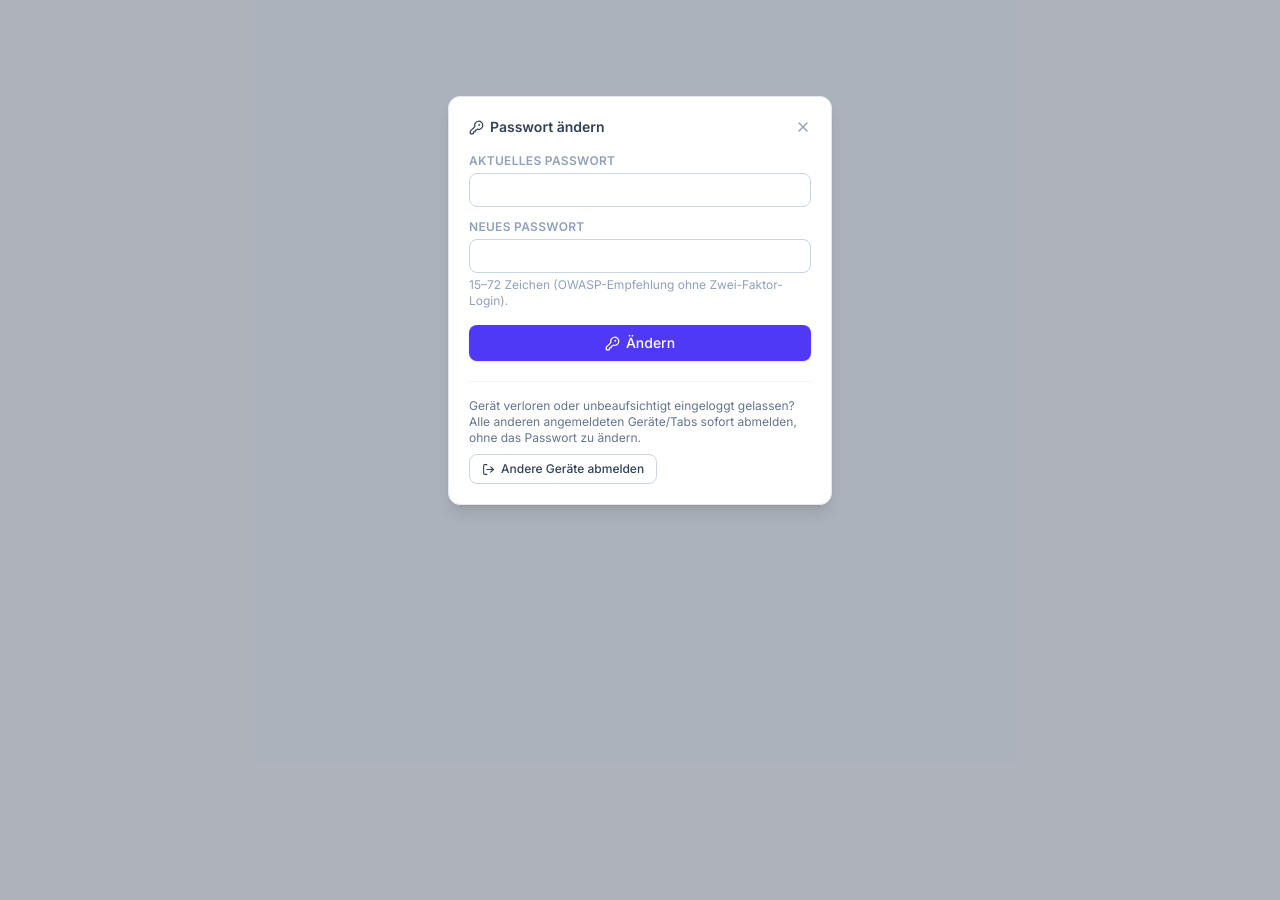
Test: PasswortAendernDialog › zeigt eine Erfolgsmeldung nach erfolgreicher Änderung
Type "altes-passwort-123" into the password field labelled "Aktuelles Passwort" at (640, 190), box [469,173,811,207]
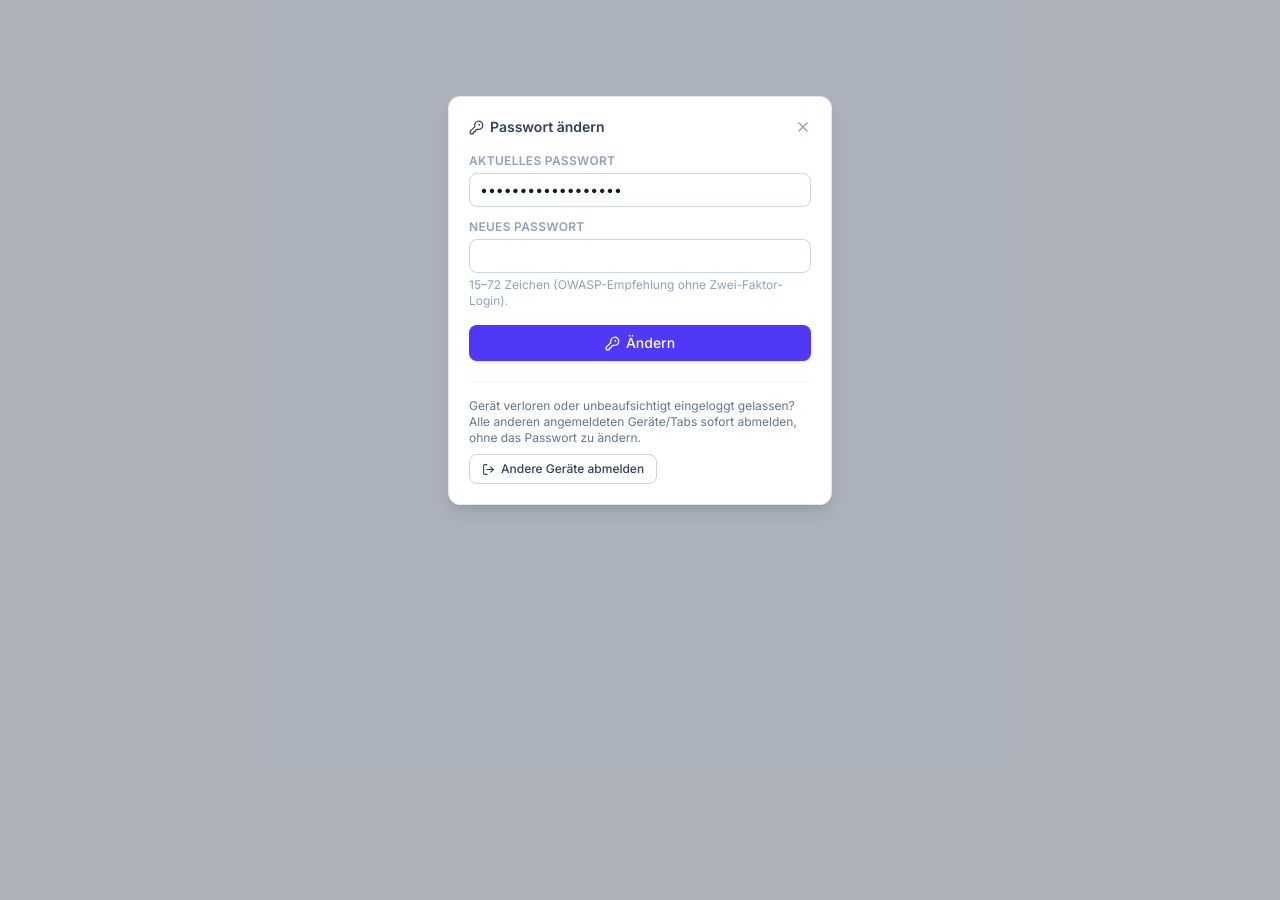
Type "ein-neues-langes-passwort" into the password field labelled "Neues Passwort" at (640, 256), box [469,239,811,273]
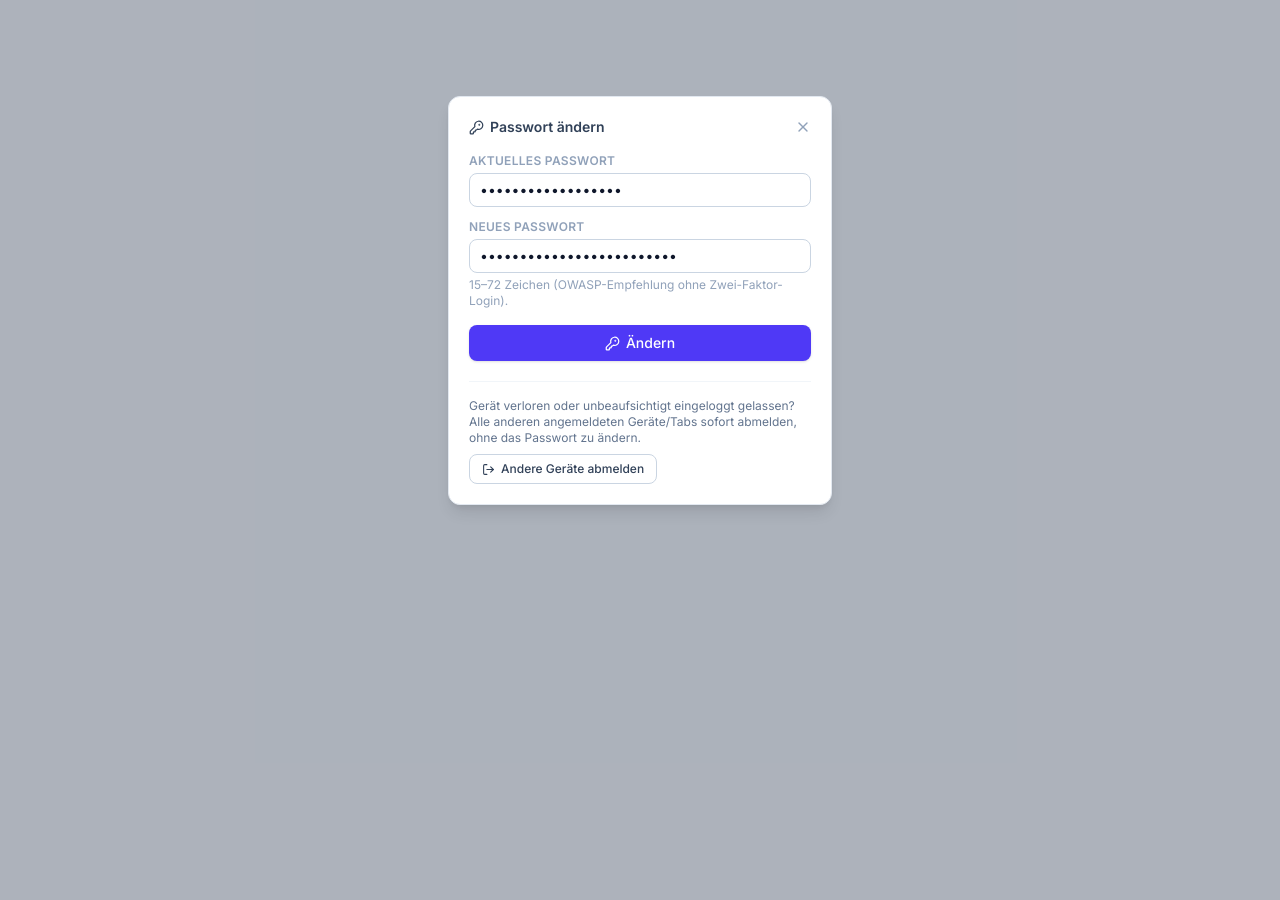
Click the button "Ändern" at (640, 343), box [469,325,811,361]
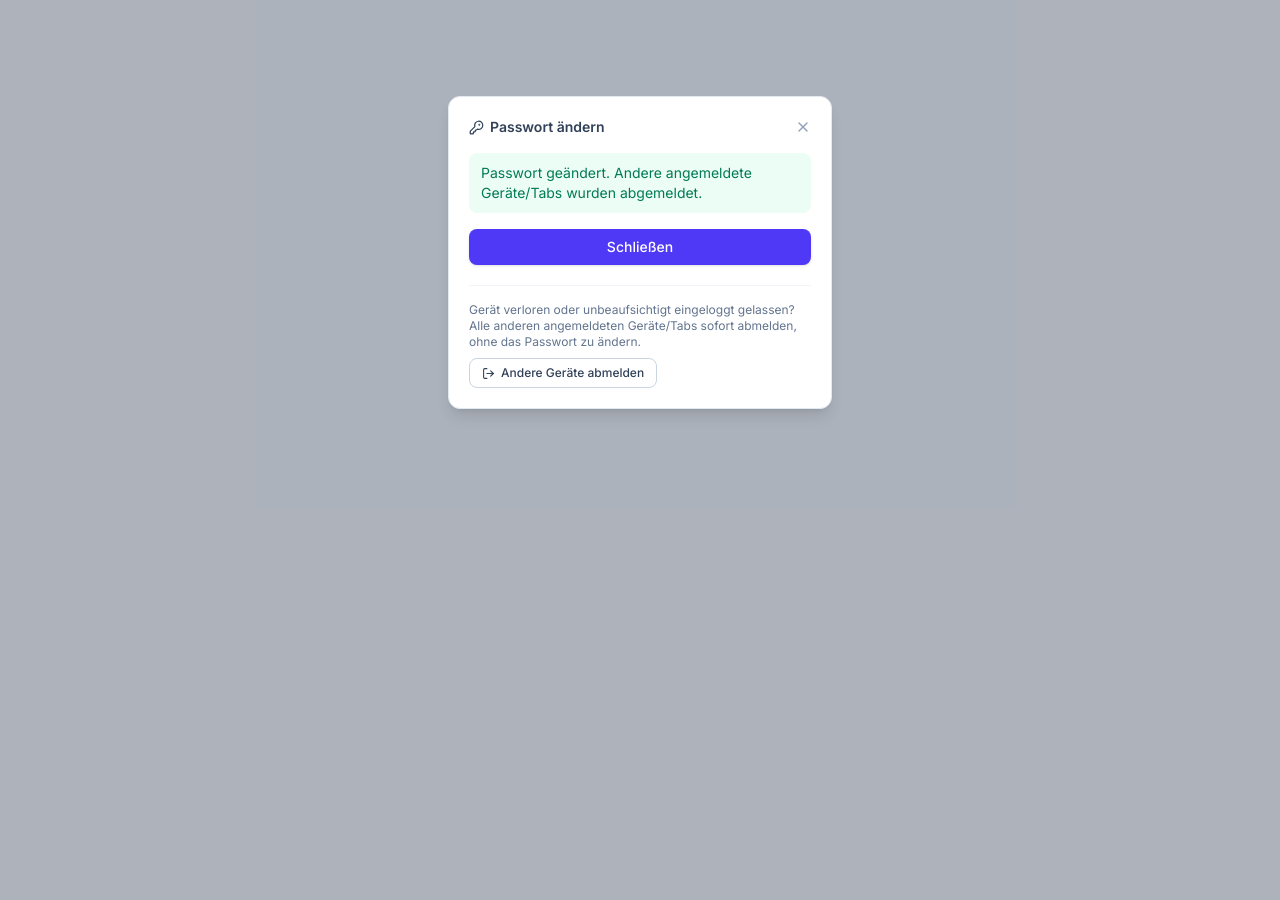
Check: the text "Passwort geändert" is shown, box [481,164,752,201]
